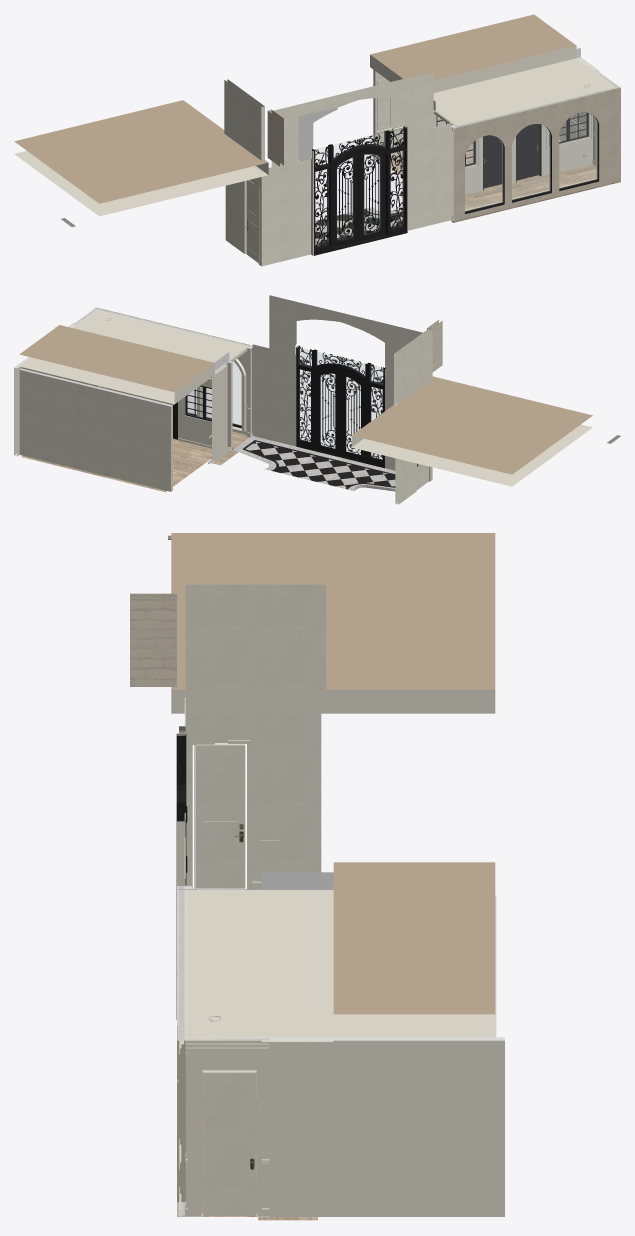
Rendered from office-hall-720158fd3a63.glb.
3 views of the same model, one above another, from view 1: azimuth 30°, elevation 25°; view 2: azimuth 150°, elevation 25°; view 3: azimuth 270°, elevation 25° (orthographic). The views are drawn at different scales.
Parts seen in each view (by area): view 1: office-hall-look-2575515a05775d9e, office-hall-look-d5a4a1b5d3594c04, office-hall-c9e78b9ec1bb39cd, office-hall-look-34525a54e63b733b, office-hall-dbd60ee5c3733ed6, office-hall-look-bce662e26d5a5947, office-hall-c02a36d0521470a9, office-hall-38561c12898e4d43, office-hall-5cbcc744e6f960f3, office-hall-look-dbd60ee5c3733ed6, office-hall-look-746250f96522f643, office-hall-c374268555806af8 (+22 smaller); view 2: office-hall-look-2575515a05775d9e, office-hall-look-19647d6da46c2b80, office-hall-look-d5a4a1b5d3594c04, office-hall-look-34525a54e63b733b, office-hall-dbd60ee5c3733ed6, office-hall-look-e388ad8855329420, office-hall-look-3231f73bae020736, office-hall-look-bce662e26d5a5947, office-hall-look-746250f96522f643, office-hall-look-b3086b8cd368d7da, office-hall-look-26f615ec640e02ab, office-hall-look-6a051330000fbca1 (+19 smaller); view 3: office-hall-look-2575515a05775d9e, office-hall-look-6a1144f4e43410bb, office-hall-look-746250f96522f643, office-hall-look-85f0fd939e0fcc78, office-hall-dbd60ee5c3733ed6, office-hall-look-dbd60ee5c3733ed6, office-hall-cf6d22c5317ced0b, office-hall-look-3322bc58bedf5620, office-hall-68d06b361ac47823, office-hall-look-5e296beffb47d853, office-hall-c9e78b9ec1bb39cd, office-hall-look-bce662e26d5a5947.
Part boxes in pixels (left/top/right/bottom): office-hall-look-2575515a05775d9e: left=14, top=14, right=576, bottom=216; office-hall-look-d5a4a1b5d3594c04: left=261, top=123, right=451, bottom=266; office-hall-c9e78b9ec1bb39cd: left=451, top=90, right=604, bottom=221; office-hall-look-34525a54e63b733b: left=271, top=72, right=433, bottom=166; office-hall-dbd60ee5c3733ed6: left=434, top=68, right=620, bottom=127; office-hall-look-bce662e26d5a5947: left=312, top=126, right=407, bottom=255; office-hall-c02a36d0521470a9: left=512, top=124, right=550, bottom=199; office-hall-38561c12898e4d43: left=465, top=136, right=503, bottom=211; office-hall-5cbcc744e6f960f3: left=559, top=112, right=597, bottom=188; office-hall-look-dbd60ee5c3733ed6: left=433, top=48, right=599, bottom=110; office-hall-look-746250f96522f643: left=224, top=79, right=264, bottom=160; office-hall-c374268555806af8: left=451, top=164, right=620, bottom=222; office-hall-look-2575515a05775d9e: left=19, top=325, right=592, bottom=486; office-hall-look-19647d6da46c2b80: left=19, top=368, right=172, bottom=491; office-hall-look-d5a4a1b5d3594c04: left=252, top=344, right=395, bottom=470; office-hall-look-34525a54e63b733b: left=269, top=295, right=422, bottom=378; office-hall-dbd60ee5c3733ed6: left=73, top=307, right=249, bottom=362; office-hall-look-e388ad8855329420: left=246, top=441, right=395, bottom=488; office-hall-look-3231f73bae020736: left=314, top=368, right=340, bottom=455; office-hall-look-bce662e26d5a5947: left=296, top=345, right=385, bottom=468; office-hall-look-746250f96522f643: left=394, top=328, right=432, bottom=405; office-hall-look-b3086b8cd368d7da: left=299, top=348, right=383, bottom=459; office-hall-look-26f615ec640e02ab: left=340, top=369, right=366, bottom=461; office-hall-look-6a051330000fbca1: left=212, top=364, right=227, bottom=462; office-hall-look-2575515a05775d9e: left=171, top=533, right=495, bottom=1037; office-hall-look-6a1144f4e43410bb: left=269, top=1037, right=504, bottom=1216; office-hall-look-746250f96522f643: left=185, top=584, right=325, bottom=689; office-hall-look-85f0fd939e0fcc78: left=185, top=713, right=321, bottom=889; office-hall-dbd60ee5c3733ed6: left=178, top=889, right=277, bottom=1040; office-hall-look-dbd60ee5c3733ed6: left=261, top=872, right=333, bottom=1041; office-hall-cf6d22c5317ced0b: left=203, top=1071, right=256, bottom=1215; office-hall-look-3322bc58bedf5620: left=196, top=744, right=245, bottom=888; office-hall-68d06b361ac47823: left=185, top=1037, right=269, bottom=1216; office-hall-look-5e296beffb47d853: left=130, top=593, right=176, bottom=686; office-hall-c9e78b9ec1bb39cd: left=177, top=886, right=185, bottom=1201; office-hall-look-bce662e26d5a5947: left=176, top=734, right=186, bottom=1019.
Bounding box in the file's own units: 18.71 × 5.17 × 5.78.
32 materials, 7 textured.
